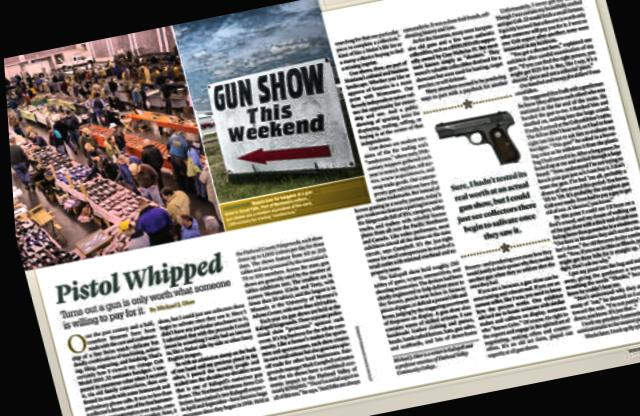pistol: (429, 108, 519, 180)
